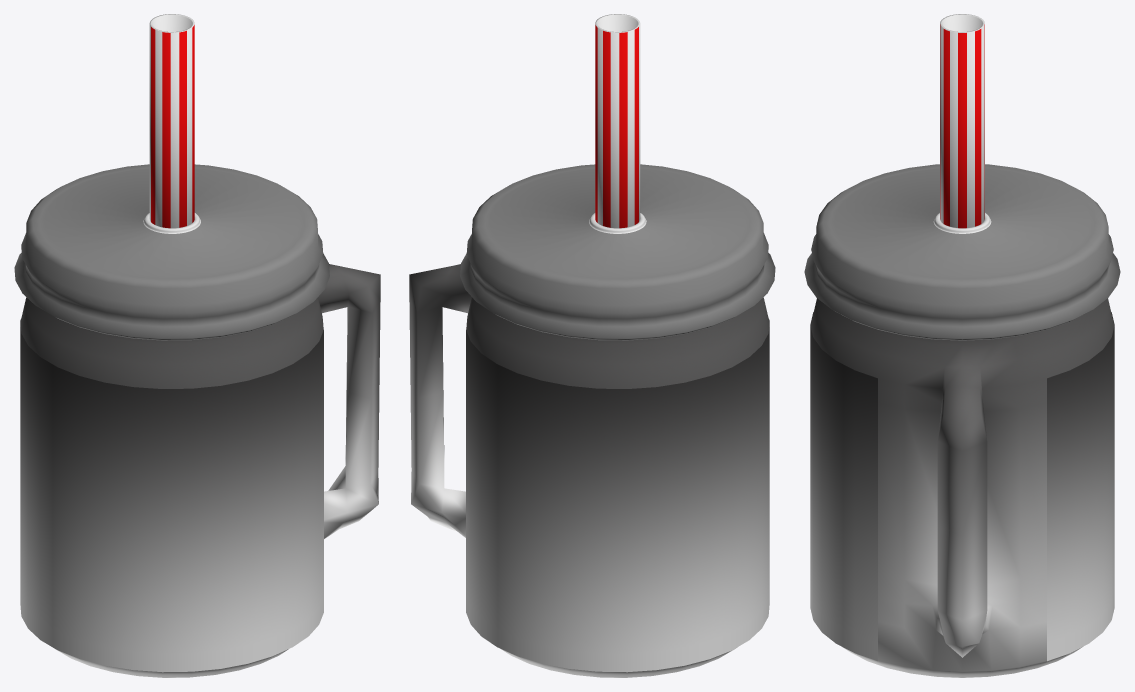
Rendered from tazaFosf.fbx.
3 views of the same model, side by side, from view 1: azimuth 30°, elevation 25°; view 2: azimuth 150°, elevation 25°; view 3: azimuth 270°, elevation 25° (orthographic).
Parts seen in each view (by area): view 1: Cylinder.003, Cylinder.001, Cylinder, Cylinder.002; view 2: Cylinder.003, Cylinder.001, Cylinder, Cylinder.002; view 3: Cylinder, Cylinder.001, Cylinder.003, Cylinder.002.
Part boxes in pixels (x1,y1,x2,y2): Cylinder.003: (20,319,323,672); Cylinder.001: (14,164,329,340); Cylinder: (20,264,380,677); Cylinder.002: (149,14,194,228); Cylinder.003: (466,319,769,672); Cylinder.001: (460,164,775,340); Cylinder: (409,264,769,677); Cylinder.002: (595,14,640,228); Cylinder: (810,298,1114,677); Cylinder.001: (804,164,1120,340); Cylinder.003: (810,312,1114,661); Cylinder.002: (940,14,984,228).
Bounding box in the file's own units: 263 × 439 × 208.
